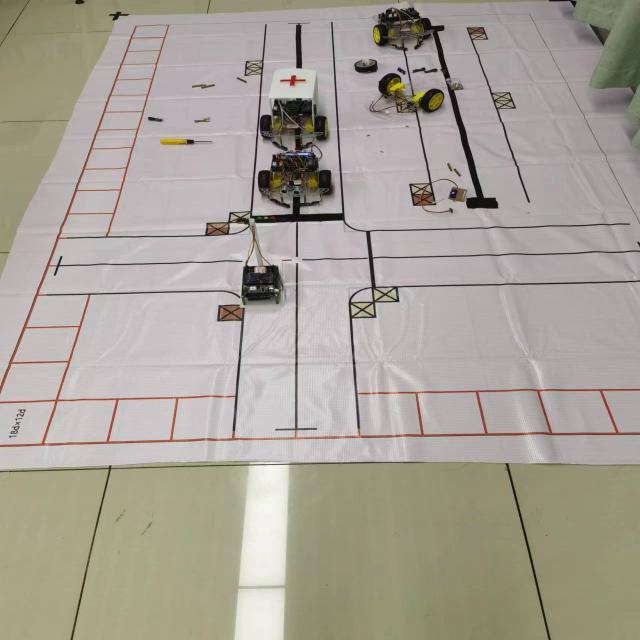RedCross: (274, 72, 312, 90)
